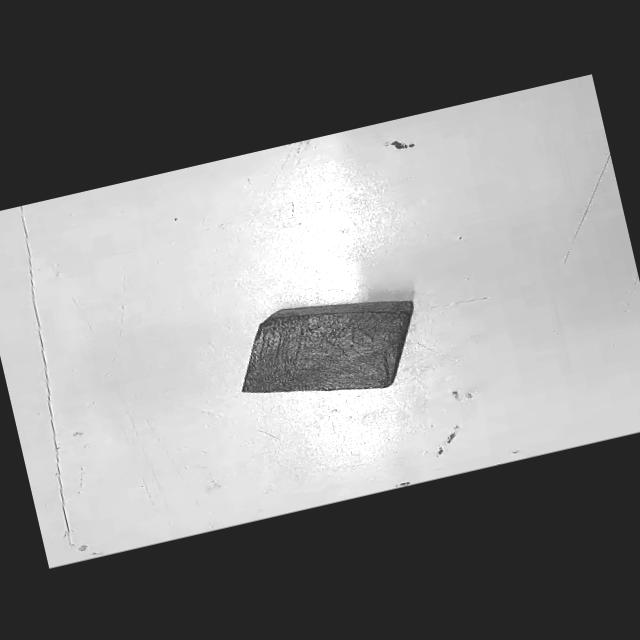bcube: (221, 276, 435, 421)
